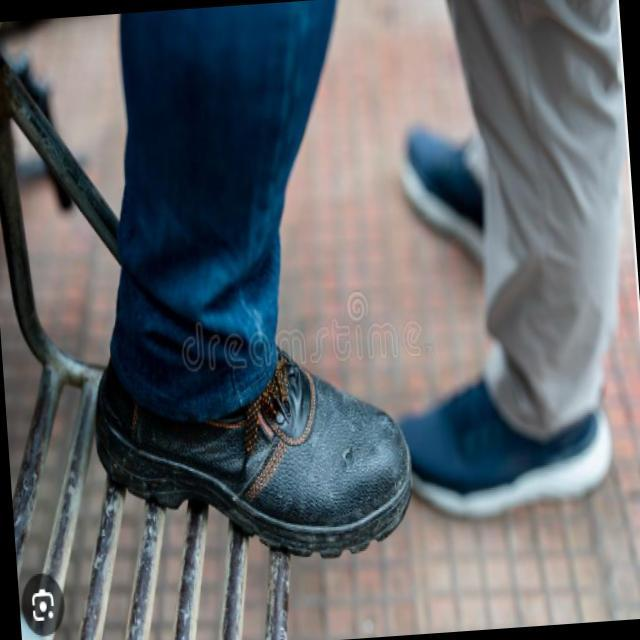boots: (77, 212, 422, 582)
